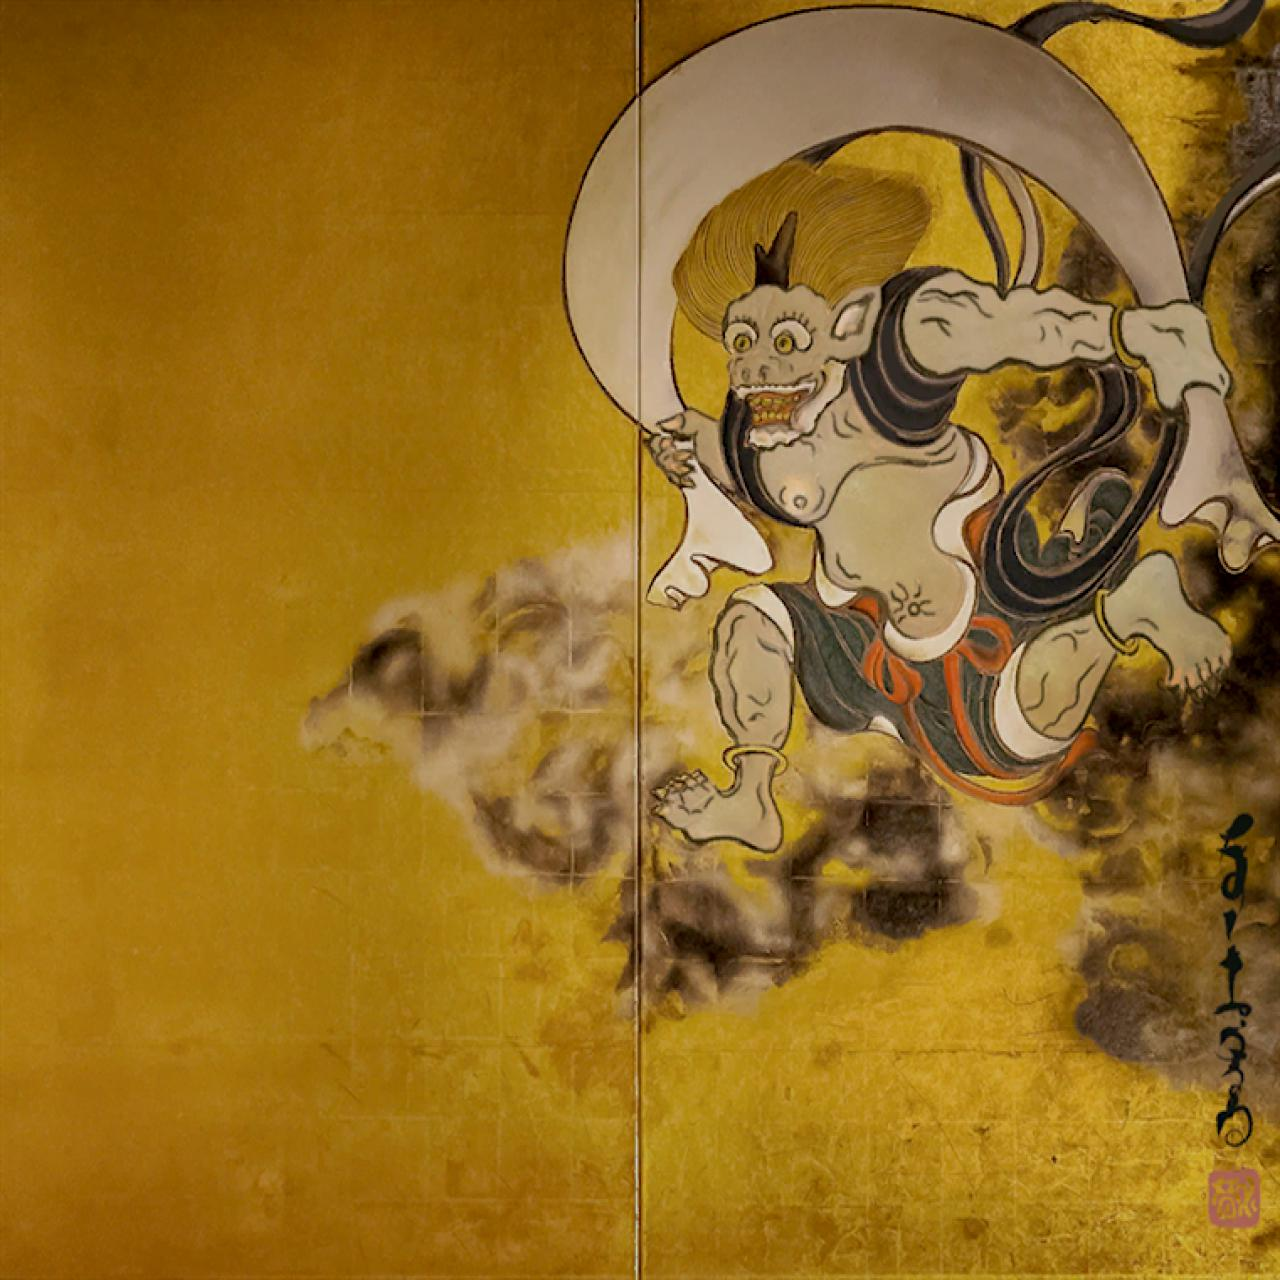FuujinFake: (1, 1, 1280, 1280)
